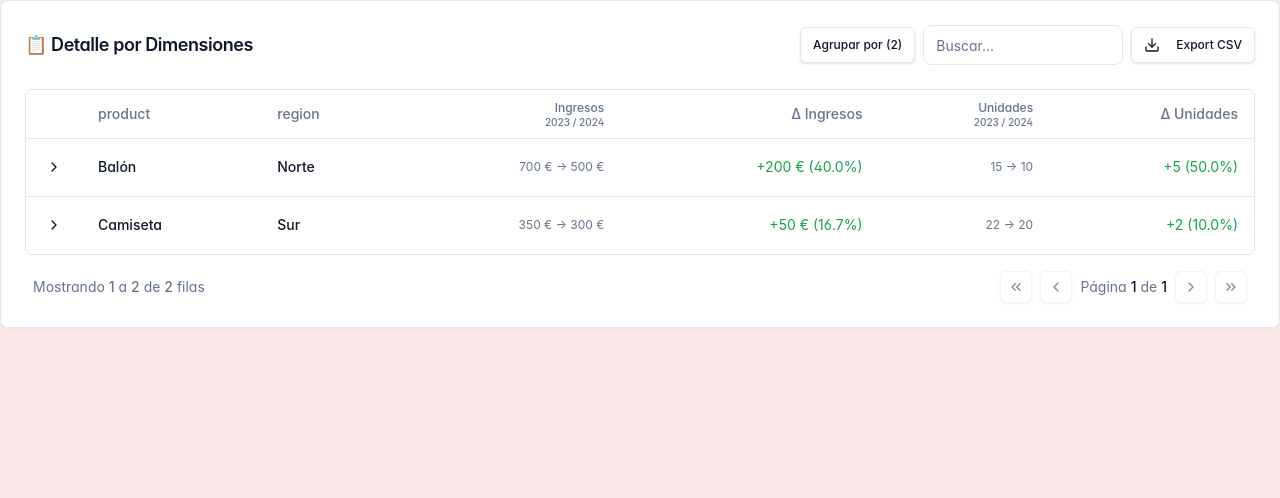
Test: GranularTable › Expansión de Filas › debe colapsar fila expandida al hacer click nuevamente
This screenshot has width=1280, height=498.
What coordinates should you click on to do the following:
click the button with test id "expand-button"
I would click on:
 (54, 166)
Its box is [42,154,66,178].
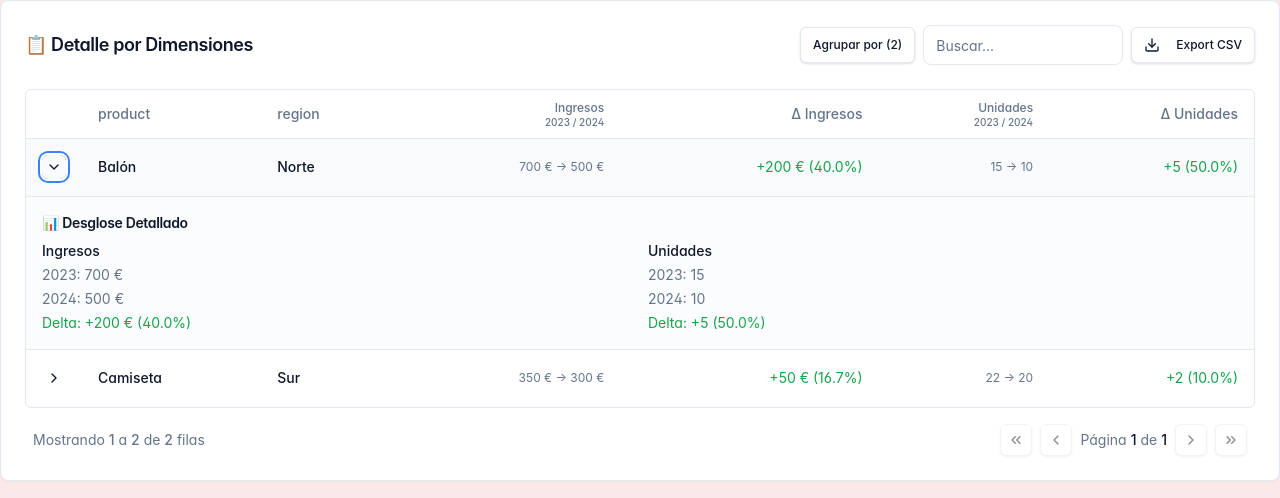
What coordinates should you click on to do the following:
click the button with test id "expand-button"
I would click on:
 (54, 166)
Its box is [42,154,66,178].
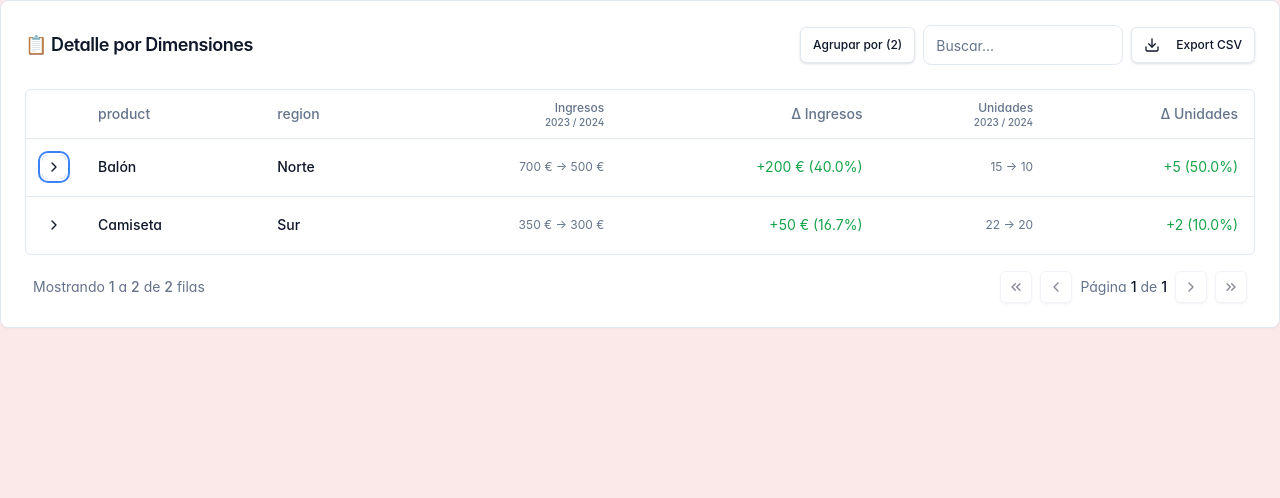
expect the heading "Desglose Detallado" is gone: met
